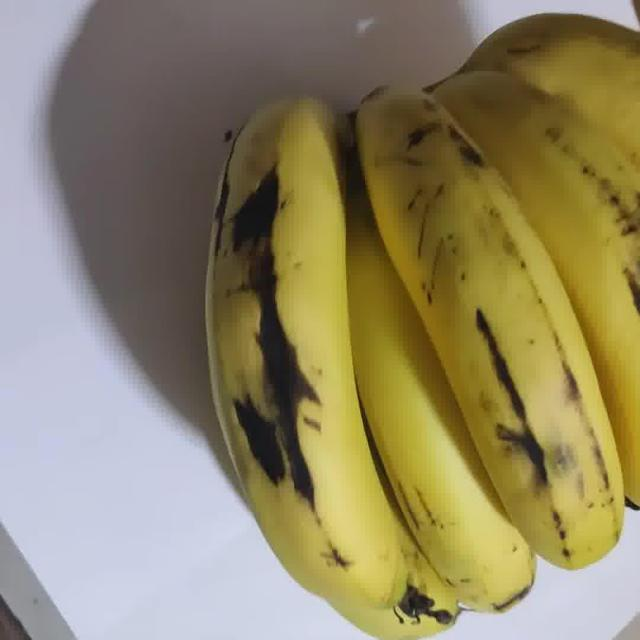Banana: (205, 15, 639, 639)
